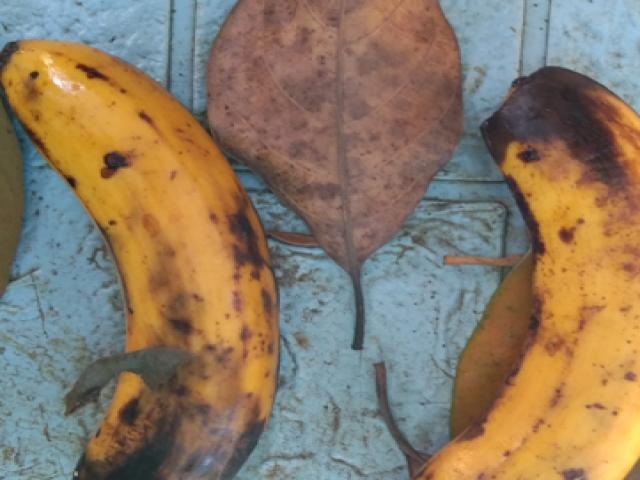overripe: (405, 37, 639, 479)
rotten: (15, 35, 300, 479)
